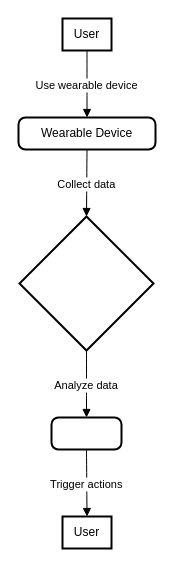
This 173x566 diagram has some shape labels left out. Here are the shapes that lost their labels. From the top down, the centre of each, then its label:
the point at 86,283: IoT Platform
the point at 86,433: Insights
